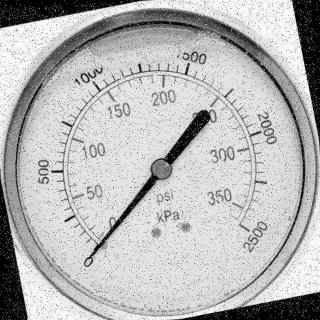gauge: (0, 0, 320, 320), (225, 202, 261, 254), (74, 229, 116, 273), (149, 157, 174, 181), (84, 251, 96, 263)
